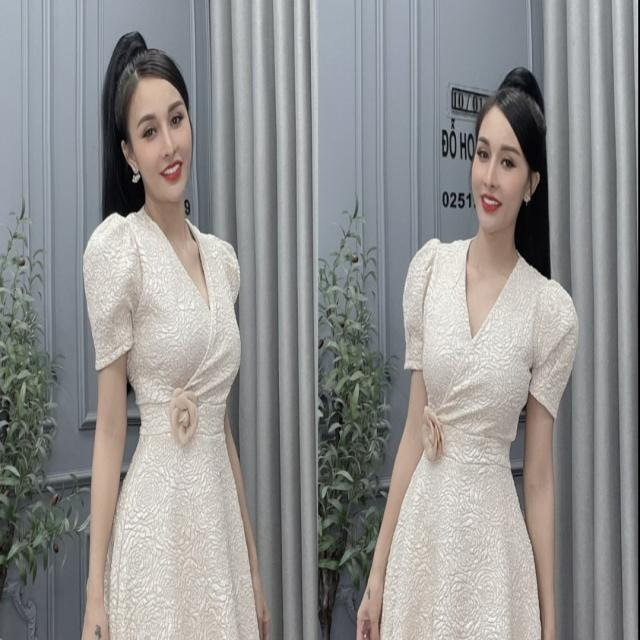clothes: (381, 230, 580, 640), (72, 207, 259, 640)
